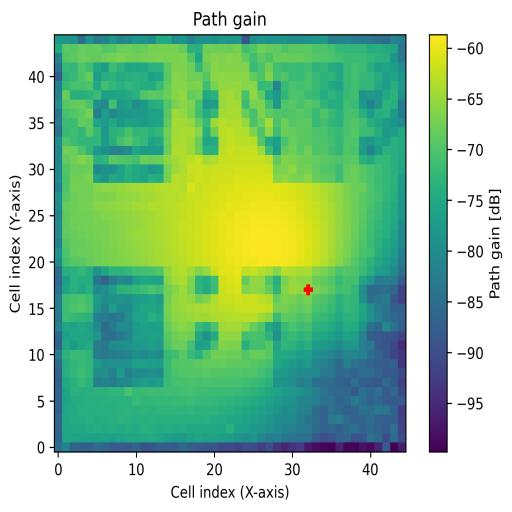Concrete: (272, 63, 344, 184)
Glass: (93, 63, 165, 182)
Metal: (272, 277, 358, 387)
Wood: (92, 266, 166, 388)
